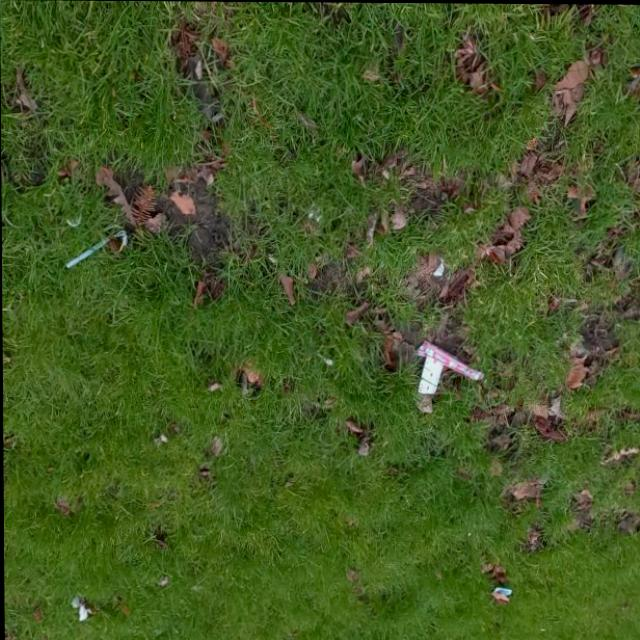Plastic: (417, 339, 484, 381)
